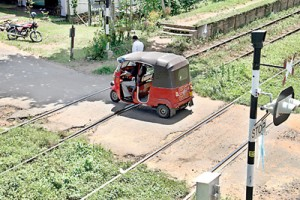tuk tuk: (108, 51, 194, 118)
